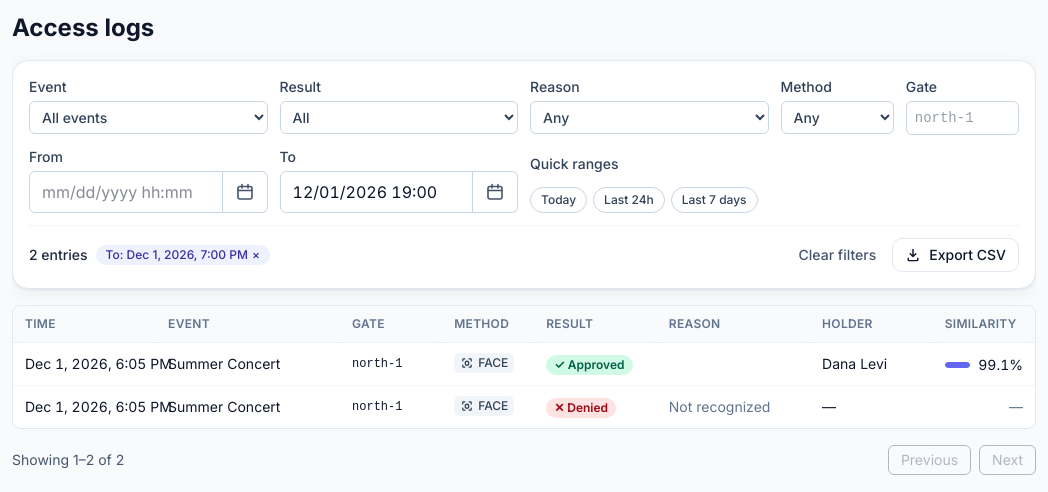
Test: LogsPage › quick ranges set From and clear To
Expected: the table is shown, 13,306 -> 1035,428
Click the button "Last 24h" at (629, 200), box 593,187 -> 665,213
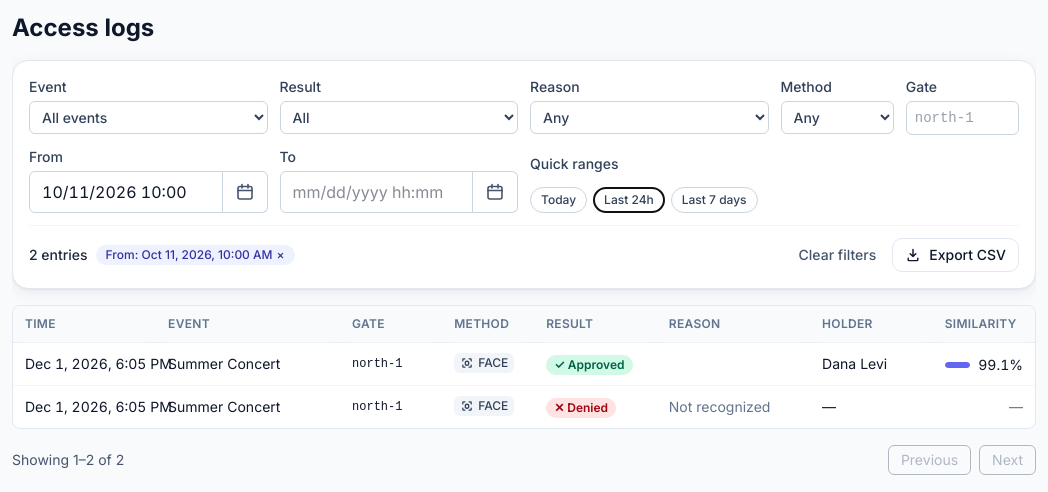
Result: the field labelled "From" holds "10/11/2026 10:00" at 29,171 -> 222,213
Click the button "Today" at (559, 200), box 530,187 -> 587,213
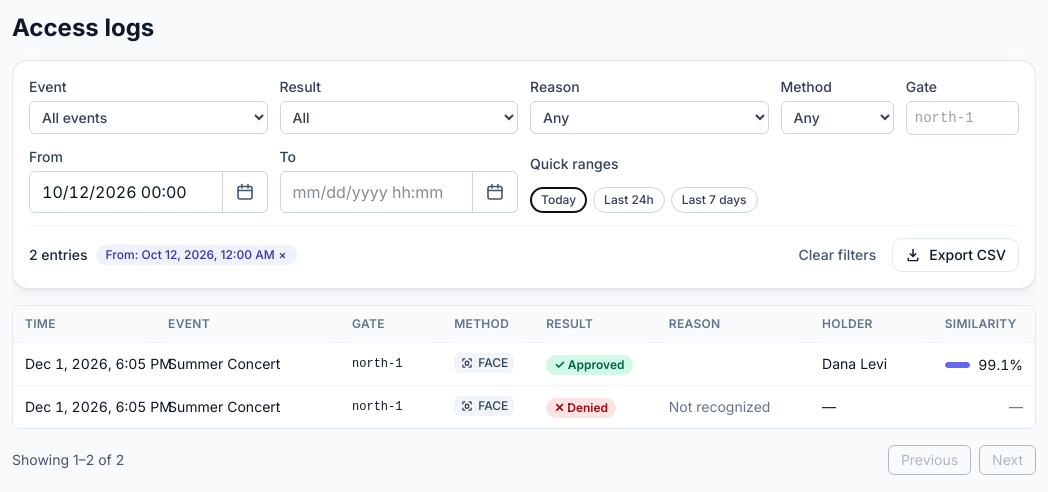
Result: the field labelled "From" holds "10/12/2026 00:00" at 29,171 -> 222,213
